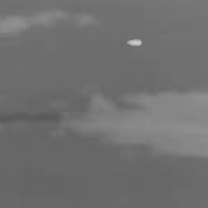Target: (126, 38, 143, 47)
